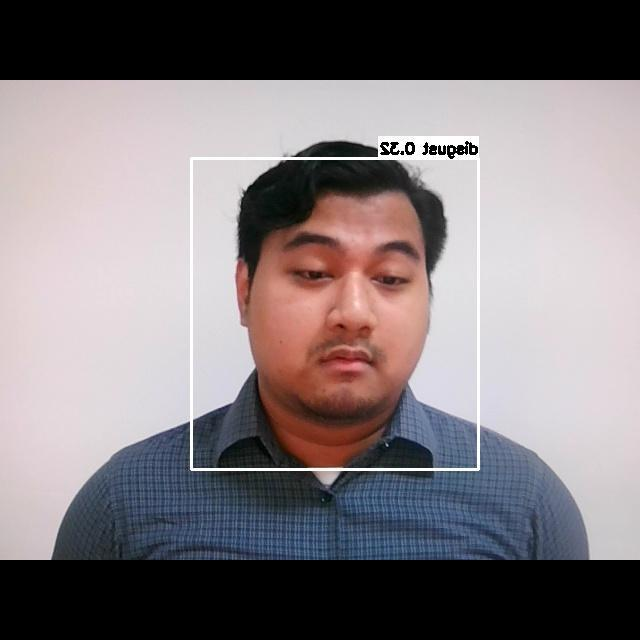Fear: (251, 200, 434, 399)
